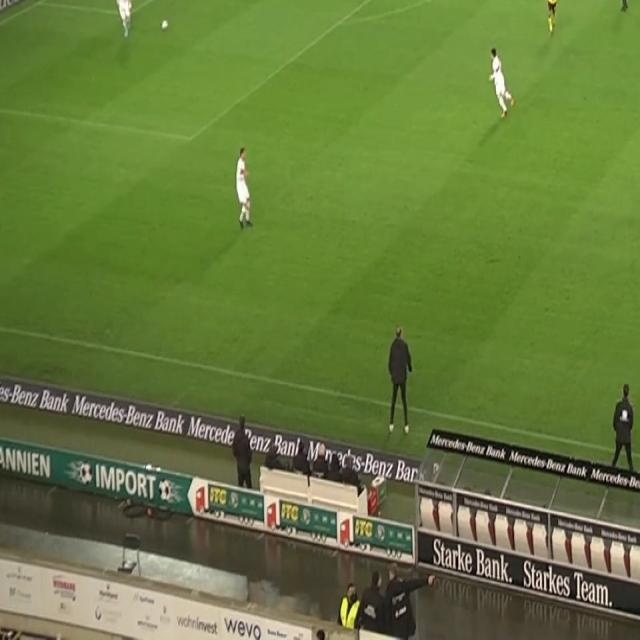ball: (161, 18, 168, 31)
